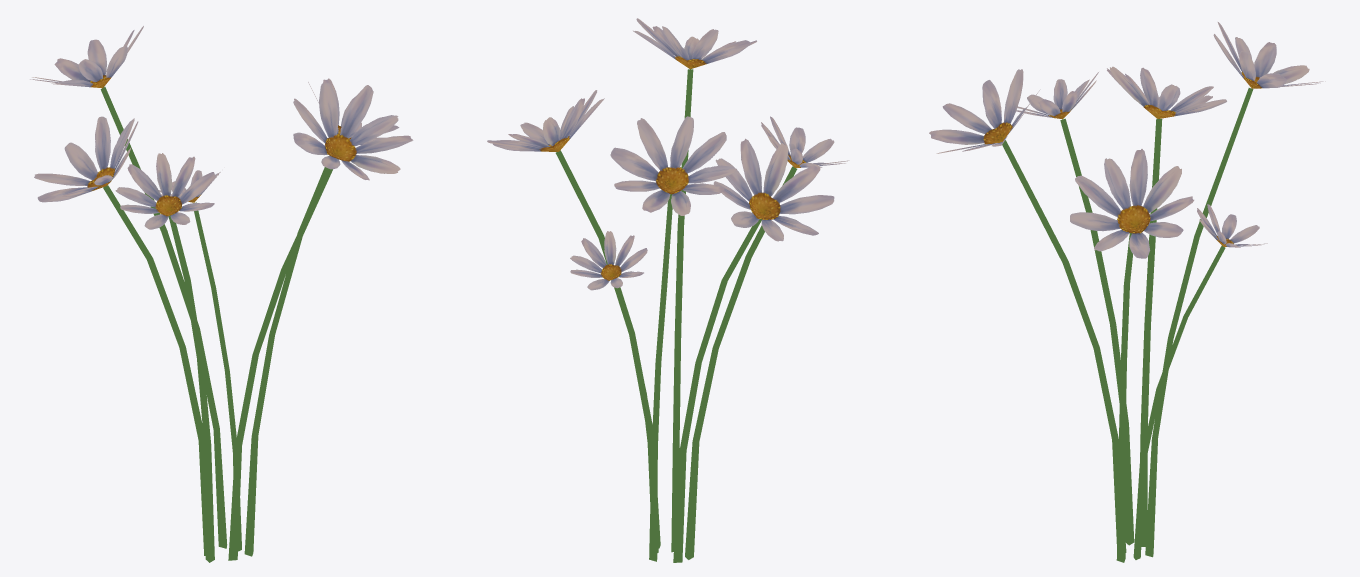
The model's file is MEADOW_SM_Flower_05_02.gltf.
3 views of the same model, side by side, from view 1: azimuth 30°, elevation 25°; view 2: azimuth 150°, elevation 25°; view 3: azimuth 270°, elevation 25° (orthographic). The views are drawn at different scales.
Visible parts, largest first — view 1: SM_Flower_05_02_LOD0; view 2: SM_Flower_05_02_LOD0; view 3: SM_Flower_05_02_LOD0.
Boxes of the visible parts, x1,y1,x2,y2 form: SM_Flower_05_02_LOD0: [30, 26, 413, 562]; SM_Flower_05_02_LOD0: [487, 18, 849, 562]; SM_Flower_05_02_LOD0: [929, 22, 1325, 562].
Size of the model in its own units: 0.5226 by 0.6475 by 0.5121.
Materials: 1 (1 with a texture image).
